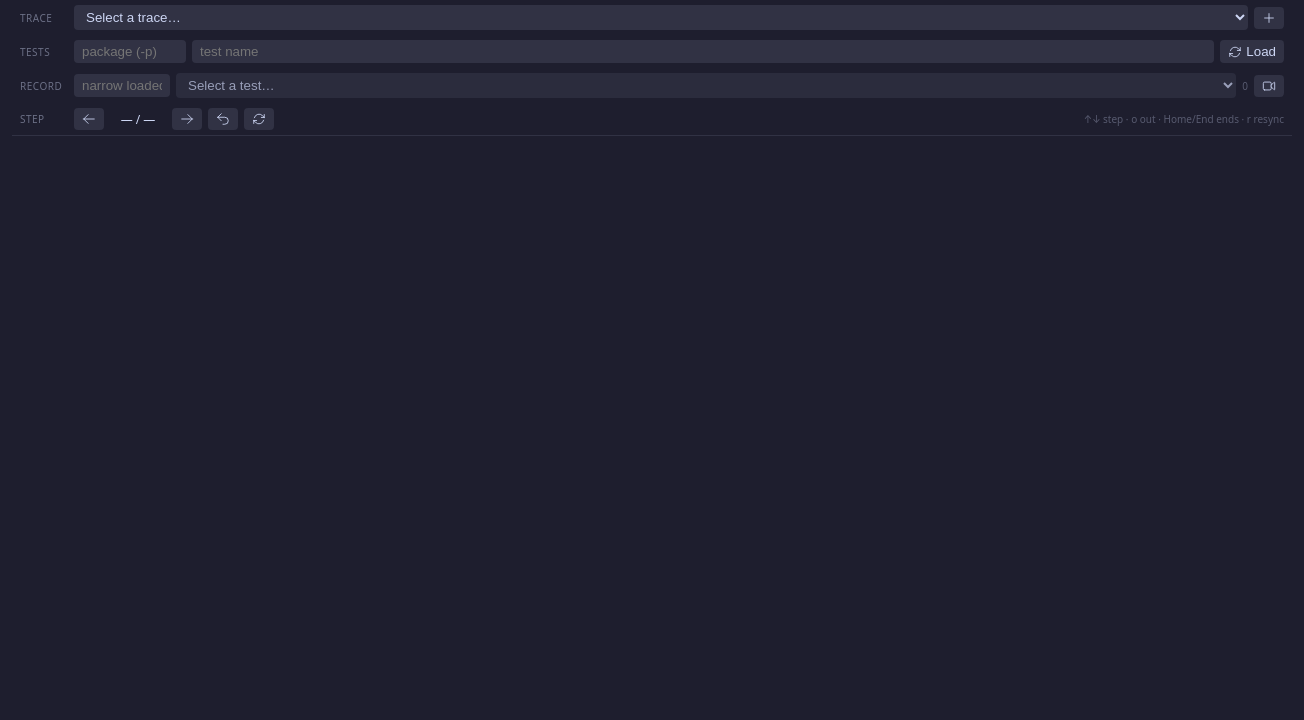
DebugWalkthroughTile › recording from the UI › offers the crate's tests and records the chosen one
The image size is (1304, 720).
Type "core-lib" into the field named "Cargo package".
click(130, 52); type("core-lib")  # box [74, 40, 186, 63]
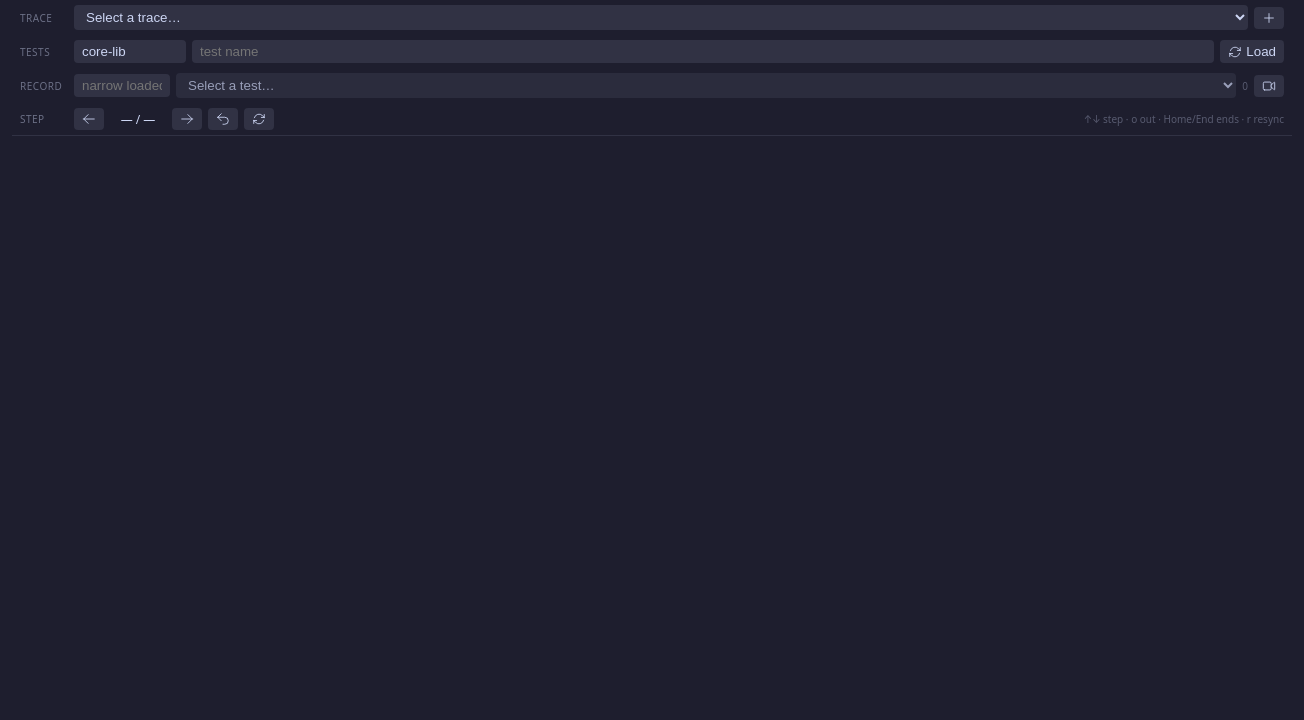
Click the button with aria-label "Load tests".
click(1252, 52)  # box [1220, 40, 1284, 63]
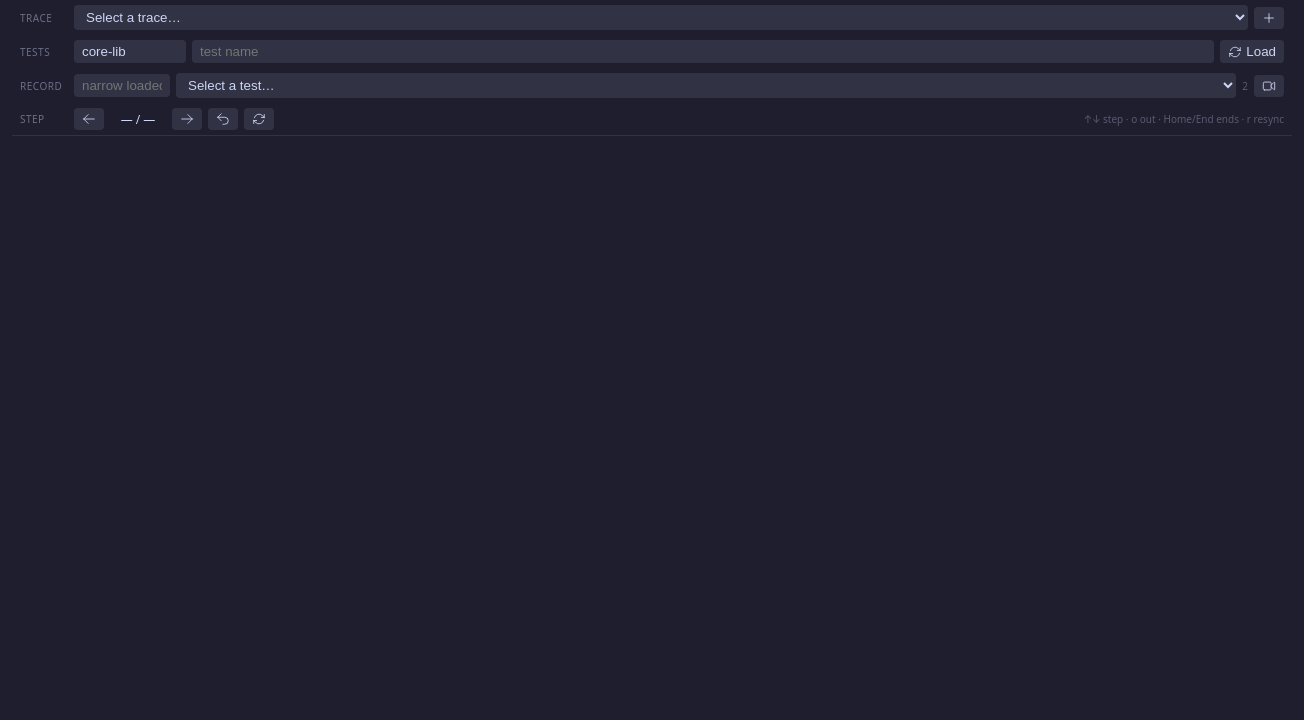
Select "beta" in the dropdown named "Test" at {"x": 706, "y": 86}, box [176, 73, 1236, 98]
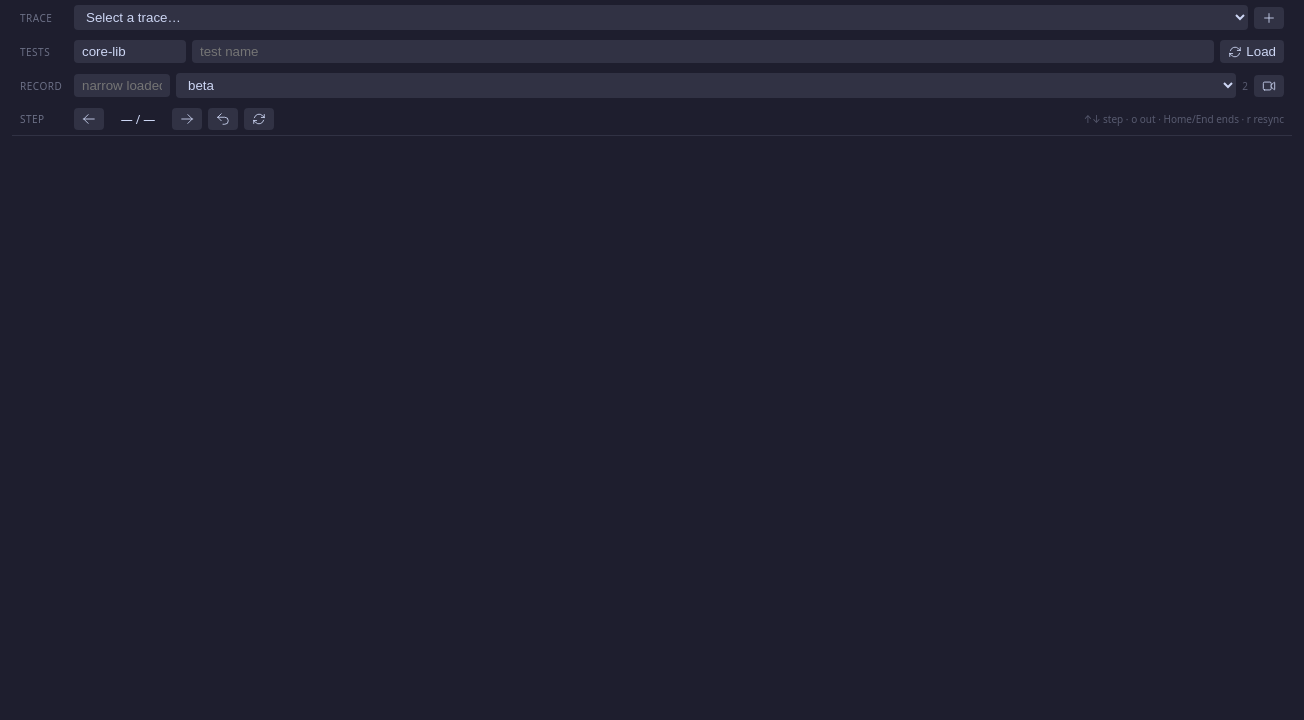
Click the button named "Record trace".
click(1269, 86)  # box [1254, 74, 1284, 96]
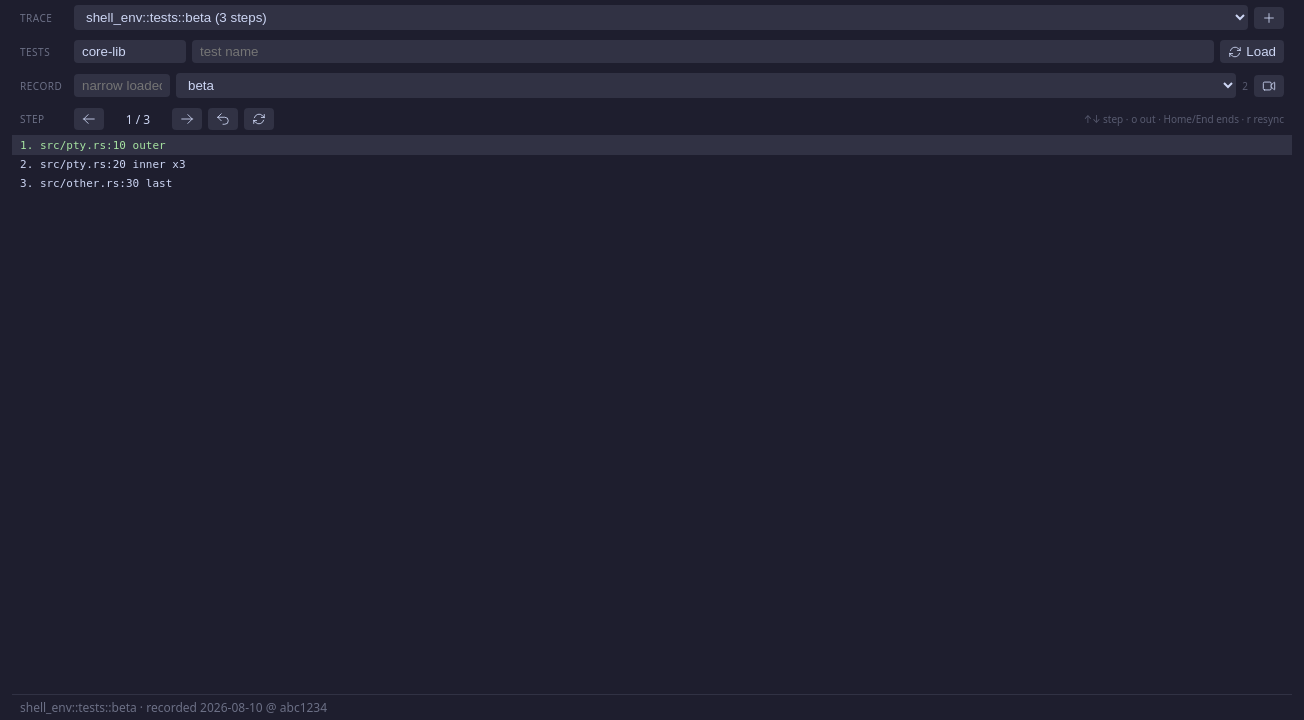
Expected: the button with test id "walkthrough-step-current" is shown, [12, 136, 1292, 155]
